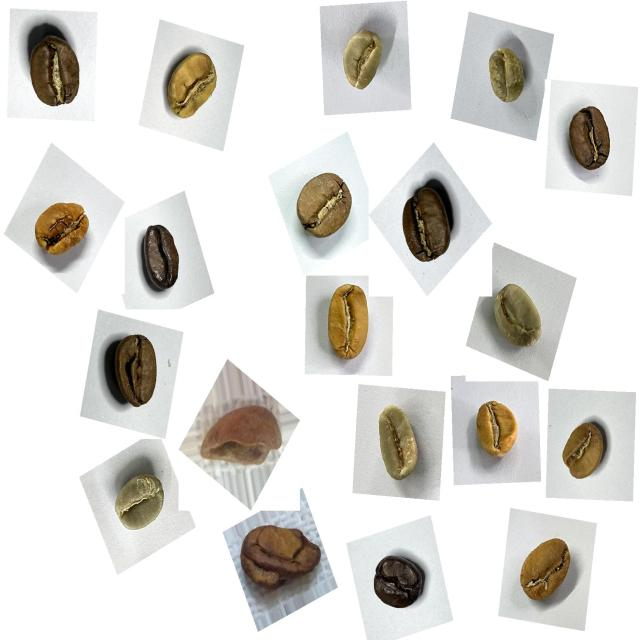bad: (234, 516, 326, 609), (200, 394, 284, 476)
dark: (363, 541, 432, 621), (132, 216, 192, 302)
green: (360, 395, 434, 496), (481, 274, 555, 363), (103, 460, 177, 547), (328, 18, 395, 106), (474, 36, 536, 116)
light: (158, 42, 232, 133), (511, 528, 585, 618), (316, 280, 382, 373), (27, 190, 100, 272), (466, 390, 530, 471), (553, 411, 618, 489)
medium: (16, 27, 94, 122), (287, 160, 364, 252), (390, 181, 463, 277), (98, 323, 171, 417), (558, 97, 625, 184)
